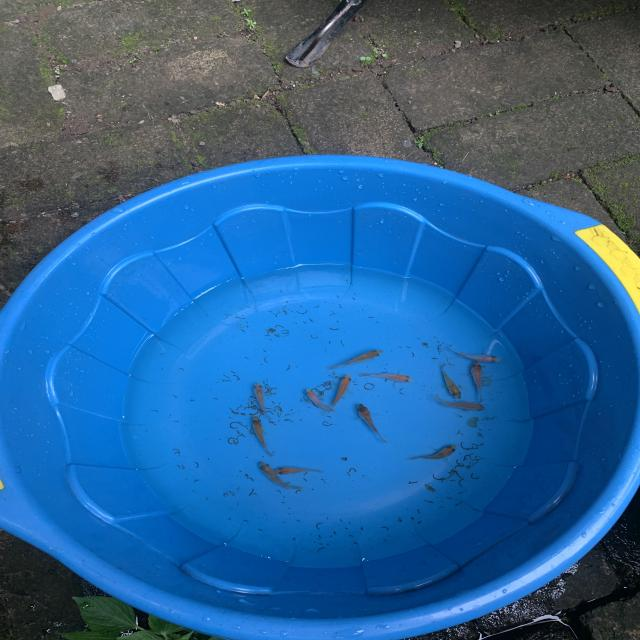nila: (353, 399, 395, 443), (256, 459, 309, 492), (428, 392, 496, 415), (324, 372, 355, 418), (328, 347, 387, 371), (248, 412, 280, 456), (444, 343, 505, 366), (405, 442, 463, 463), (439, 359, 465, 404), (248, 379, 276, 420), (304, 386, 341, 417), (352, 370, 417, 385), (467, 355, 487, 402), (268, 463, 326, 476)
